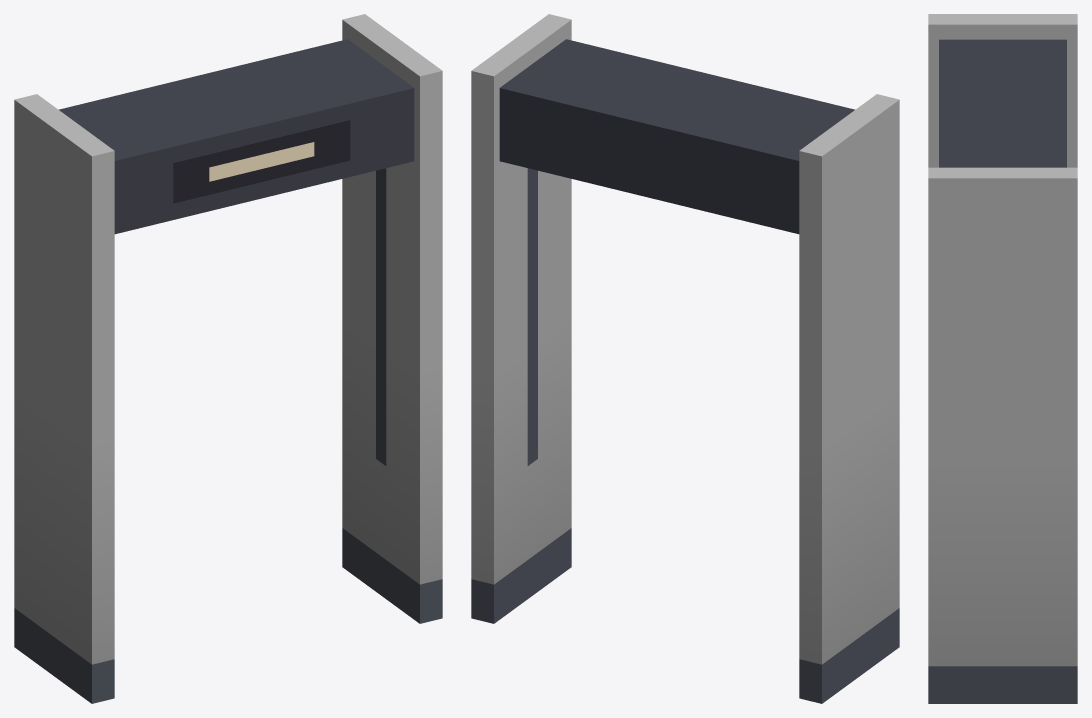
File: security_wall.fbx
3 renders of one model, left to right at view 1: azimuth 30°, elevation 25°; view 2: azimuth 150°, elevation 25°; view 3: azimuth 270°, elevation 25°, orthographic. The views are drawn at different scales.
Parts seen in each view (by area): view 1: Cube.001; view 2: Cube.001; view 3: Cube.001.
Part boxes in pixels (x1=…): Cube.001: x1=14, y1=14, x2=442, y2=703; Cube.001: x1=471, y1=14, x2=899, y2=703; Cube.001: x1=928, y1=14, x2=1077, y2=703.
Bounding box in the file's own units: 1.63 × 2.43 × 0.6247.
